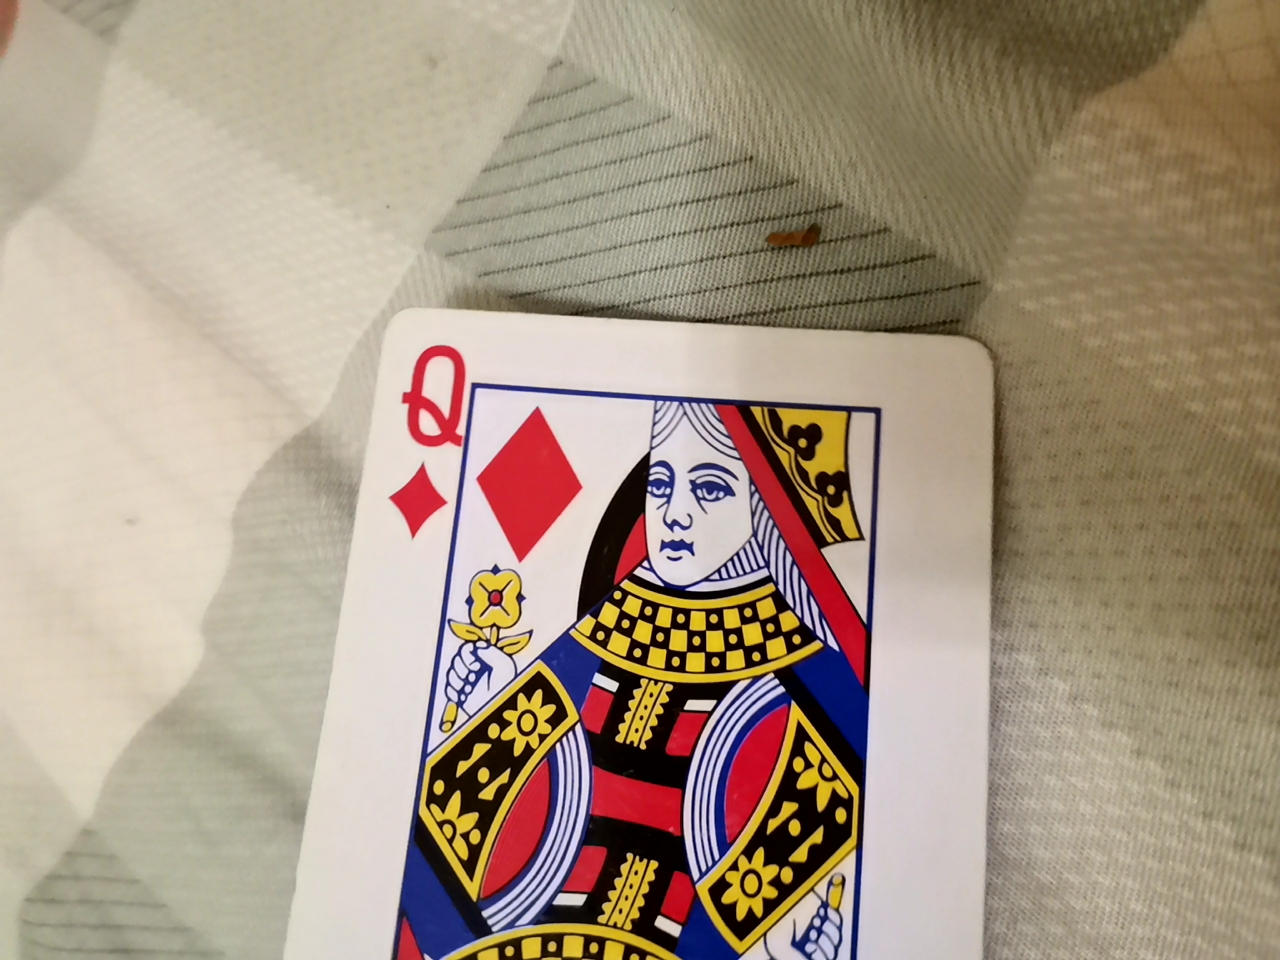fk q: (268, 310, 997, 960)
